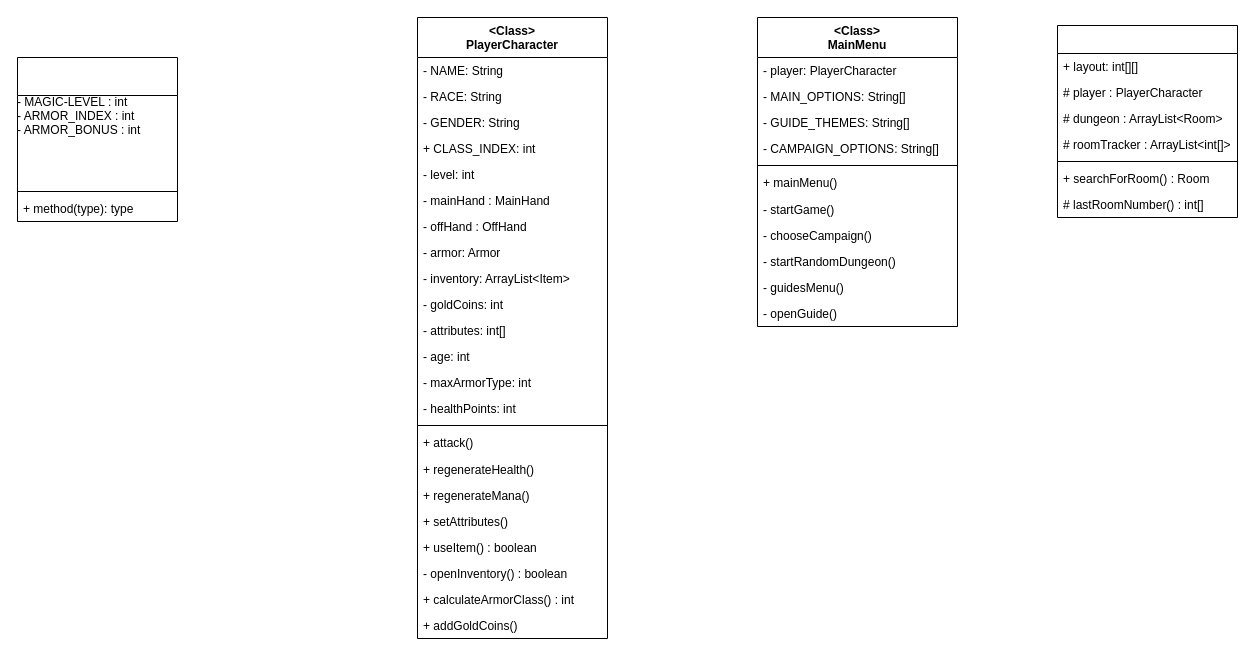
The diagram is 1255 pixels wide and 659 high, and some of its shapes have lost their labels. The box of each missing label's shape, as (x1, y1, x2, y2) in pixels:
<Class> Armor: (16, 56, 178, 222)
Campaign: (1056, 24, 1238, 218)
